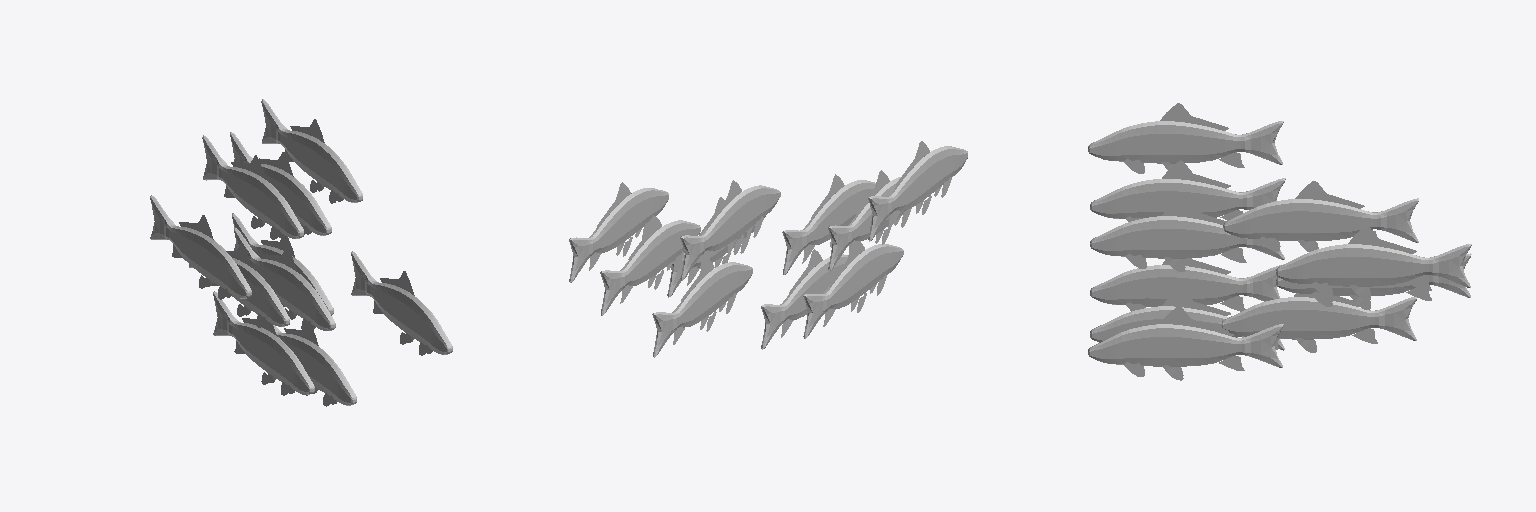
Rendered from fish1bkp.obj.
3 renders of one model, left to right at view 1: azimuth 30°, elevation 25°; view 2: azimuth 150°, elevation 25°; view 3: azimuth 270°, elevation 25°, orthographic.
Bounding box in the file's own units: 3.76 × 3.47 × 5.84.